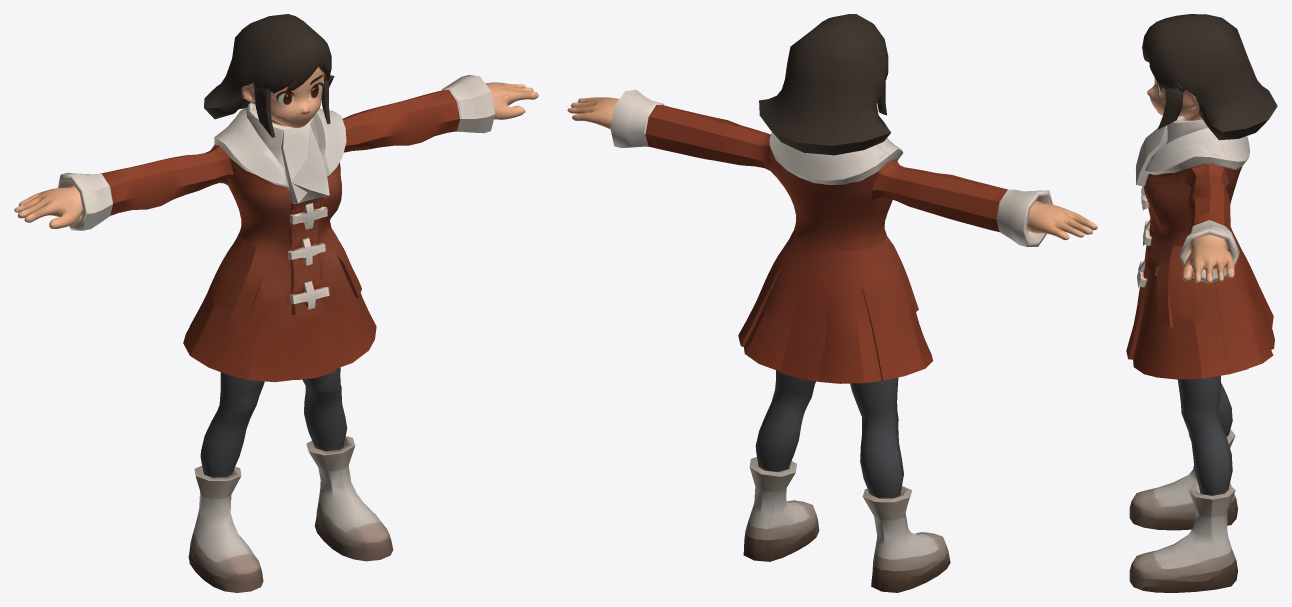
The model's file is female_elite.obj.
3 views of the same model, side by side, from view 1: azimuth 30°, elevation 25°; view 2: azimuth 150°, elevation 25°; view 3: azimuth 270°, elevation 25° (orthographic).
Parts seen in each view (by area): view 1: model; view 2: model; view 3: model.
Part boxes in pixels (x1=…): model: x1=14, y1=14, x2=538, y2=592; model: x1=567, y1=14, x2=1097, y2=592; model: x1=1126, y1=14, x2=1277, y2=592.
Size of the model in its own units: 1.74 by 1.72 by 0.4417.
Materials: 1 (1 with a texture image).
